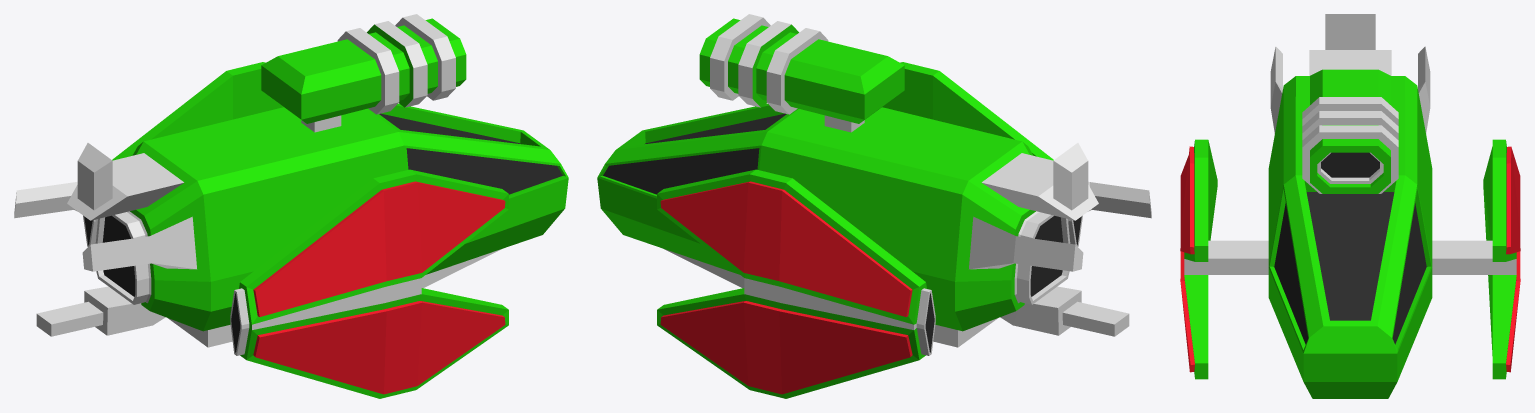
File: Space_Ship2.fbx
3 views of the same model, side by side, from view 1: azimuth 30°, elevation 25°; view 2: azimuth 150°, elevation 25°; view 3: azimuth 270°, elevation 25° (orthographic).
Visible parts, largest first — view 1: Space_Ship.002; view 2: Space_Ship.002; view 3: Space_Ship.002.
Part boxes in pixels (x1,y1,x2,y2): Space_Ship.002: (14, 14, 568, 398); Space_Ship.002: (597, 14, 1151, 398); Space_Ship.002: (1180, 14, 1520, 398).
Bounding box in the file's own units: 718 × 391 × 416.
